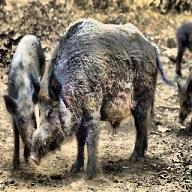boar: (28, 18, 174, 180)
